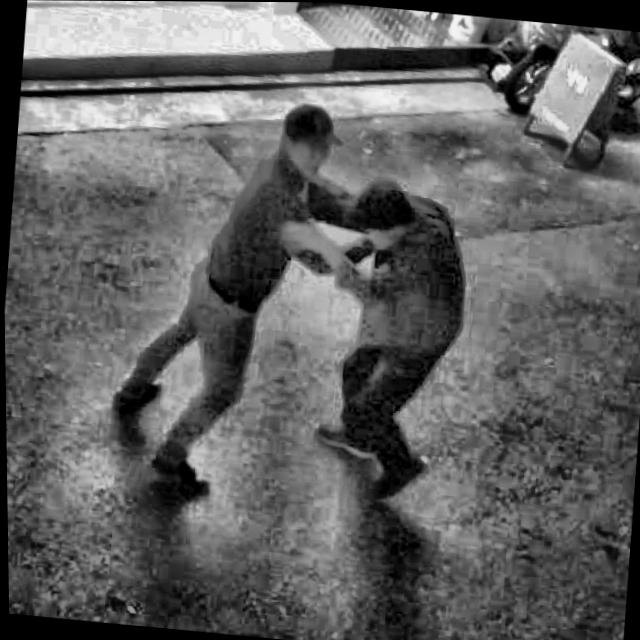robbery: (95, 96, 471, 510)
